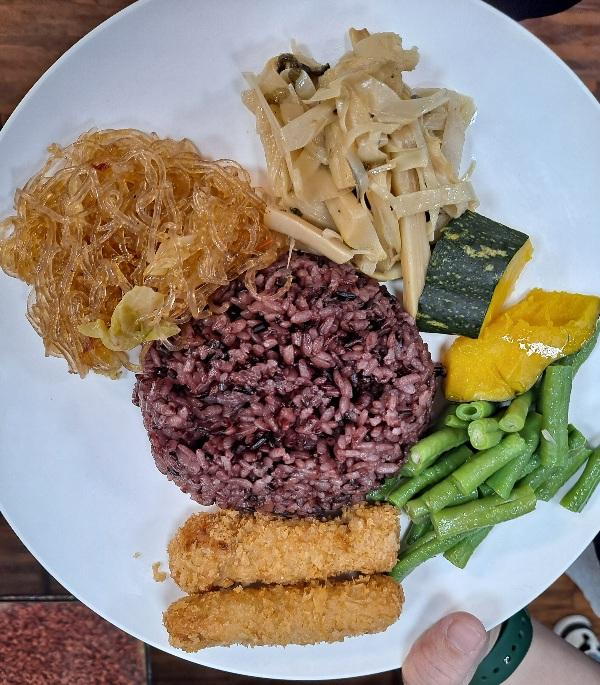big fried chicken leg: (7, 7, 600, 678)
braised fish: (149, 253, 429, 509)
braised fish fillet: (17, 122, 257, 360), (256, 24, 457, 289), (419, 383, 594, 594), (406, 210, 600, 397)
braised pork: (136, 500, 422, 645)
